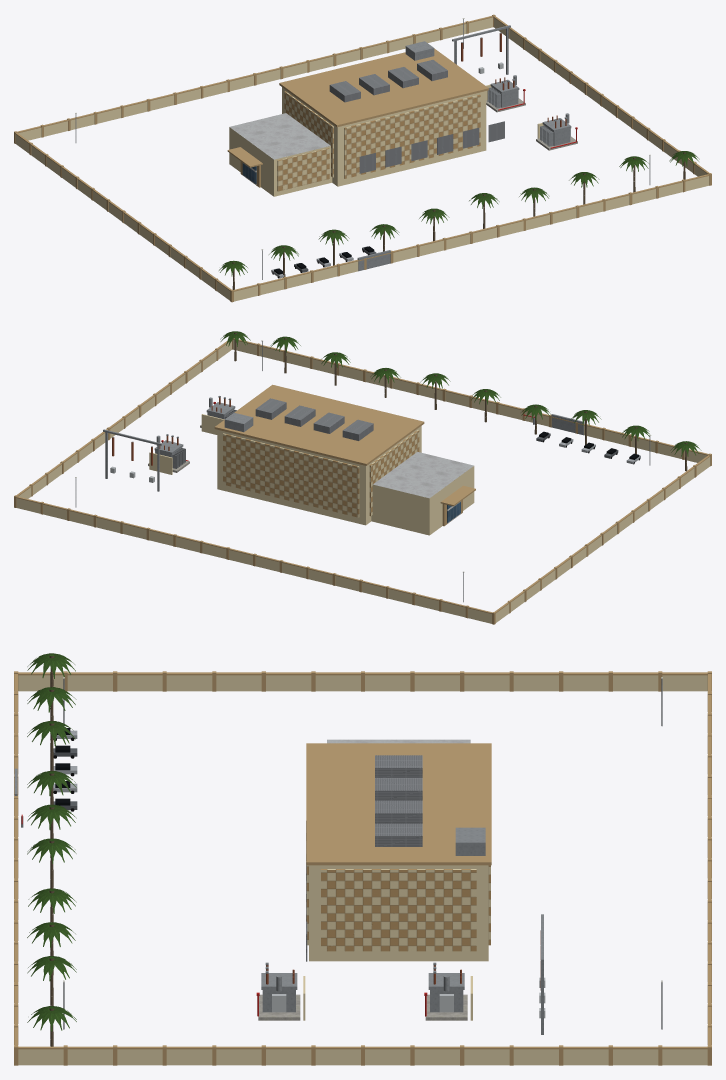
File: dewa-nad-hessa.glb
3 renders of one model, top to bottom at view 1: azimuth 30°, elevation 25°; view 2: azimuth 150°, elevation 25°; view 3: azimuth 270°, elevation 25°, orthographic. The views are drawn at different scales.
Visible parts, largest first — view 1: Building, Vegetation, Details, EQ_dw-tx, Vehicles; view 2: Building, Vegetation, Details, EQ_dw-tx, Vehicles, Yard; view 3: Building, Vegetation, Details, EQ_dw-tx, Vehicles.
Boxes of the visible parts, x1,y1,x2,y2 form: Building: [14, 14, 711, 302]; Vegetation: [219, 151, 699, 289]; Details: [75, 18, 650, 279]; EQ_dw-tx: [486, 75, 577, 150]; Vehicles: [271, 246, 376, 278]; Building: [14, 338, 711, 624]; Vegetation: [220, 331, 701, 471]; Details: [75, 340, 650, 602]; EQ_dw-tx: [148, 396, 236, 474]; Vehicles: [536, 431, 640, 464]; Yard: [103, 429, 161, 491]; Building: [14, 671, 711, 1065]; Vegetation: [27, 653, 76, 1046]; Details: [21, 677, 662, 1029]; EQ_dw-tx: [256, 962, 472, 1020]; Vehicles: [50, 728, 77, 811].
Size of what is drawn, in the model's own units: 149 by 21.4 by 117.
21 materials, 10 textured.
